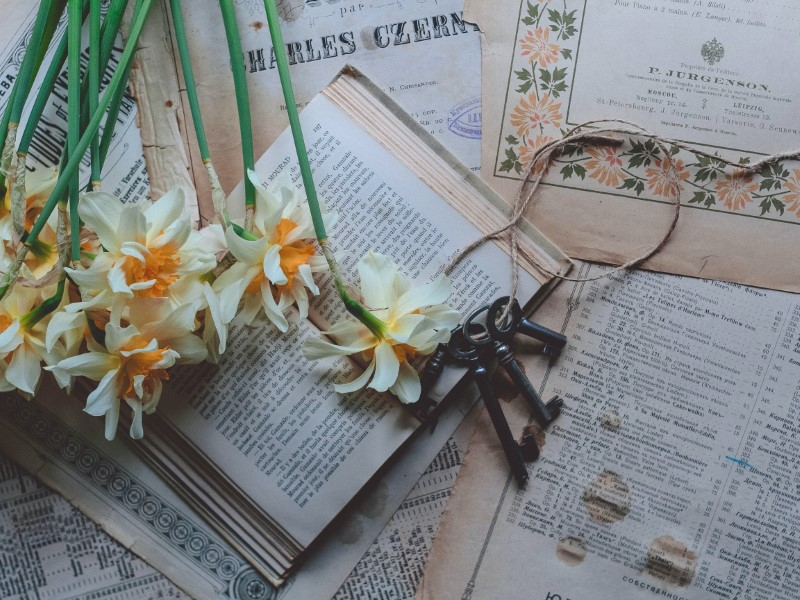key: (450, 294, 570, 490)
